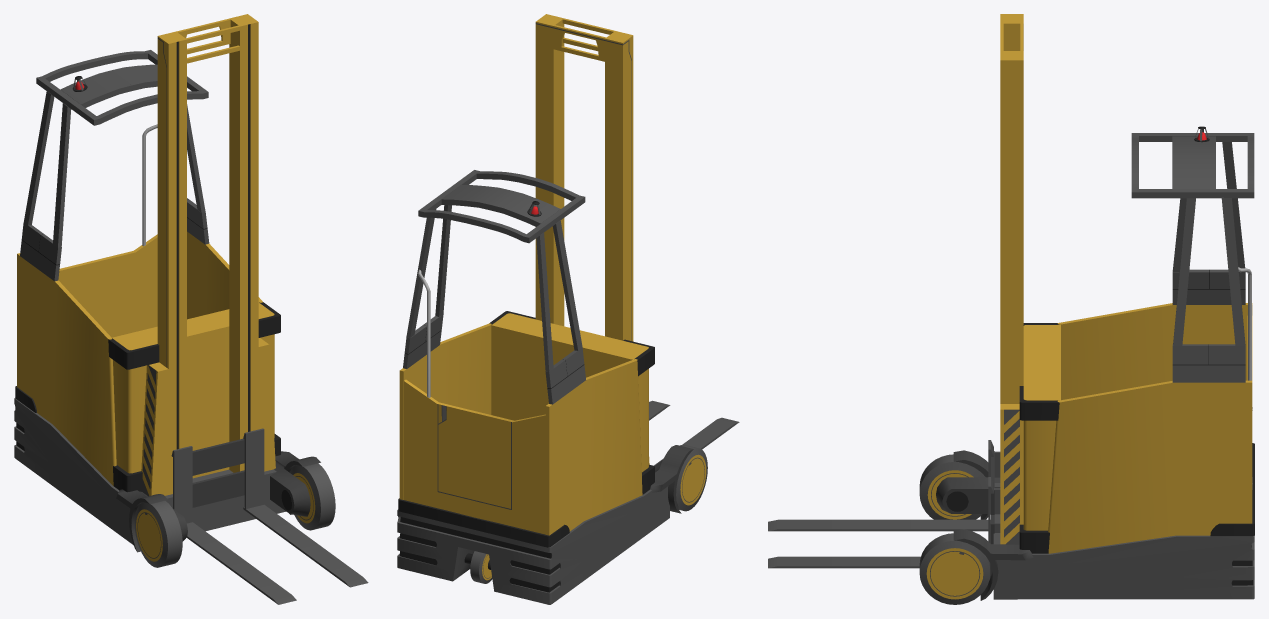
Rendered from Apilador.fbx.
3 views of the same model, side by side, from view 1: azimuth 30°, elevation 25°; view 2: azimuth 150°, elevation 25°; view 3: azimuth 270°, elevation 25° (orthographic). The views are drawn at different scales.
Visible parts, largest first — view 1: polySurface119, polySurface25, polySurface51; view 2: polySurface119, polySurface51, polySurface25, polySurface113; view 3: polySurface119, polySurface25, polySurface51.
Part boxes in pixels (<box>): polySurface119: <box>14,14,320,552</box>; polySurface25: <box>171,428,368,604</box>; polySurface51: <box>134,463,335,567</box>; polySurface119: <box>397,14,693,604</box>; polySurface51: <box>676,444,707,511</box>; polySurface25: <box>649,400,739,465</box>; polySurface113: <box>470,551,492,583</box>; polySurface119: <box>936,14,1254,600</box>; polySurface25: <box>768,440,1000,568</box>; polySurface51: <box>919,454,990,604</box>.
Bounding box in the file's own units: 2.24 × 6.21 × 5.22.
